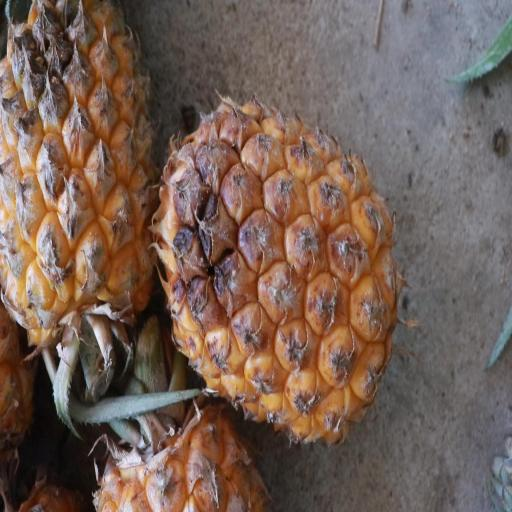Pineapple - v8 v1: (150, 101, 404, 455), (0, 2, 162, 395)
